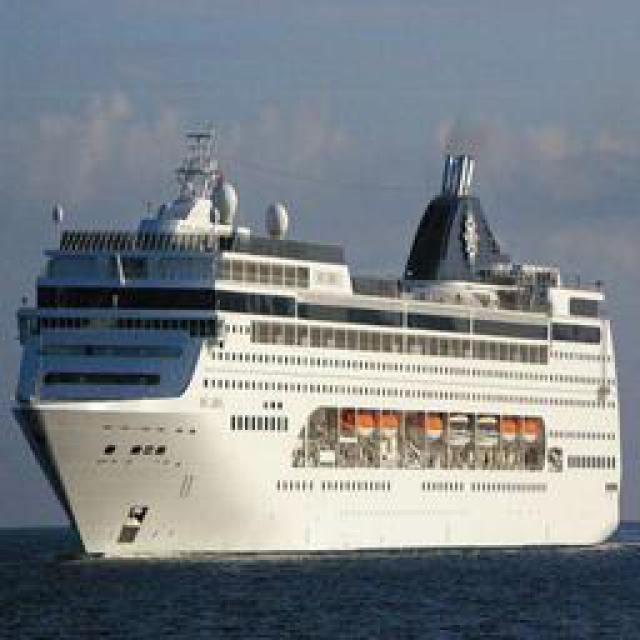Ship: (12, 107, 632, 575)
